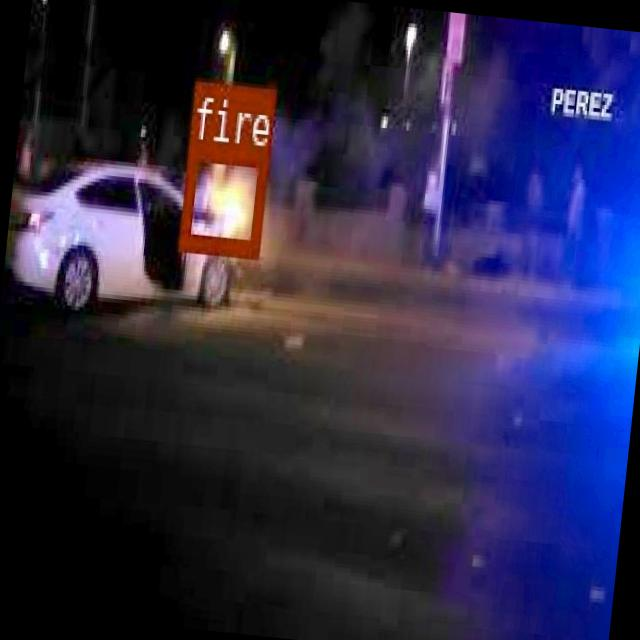fire: (177, 140, 267, 254)
